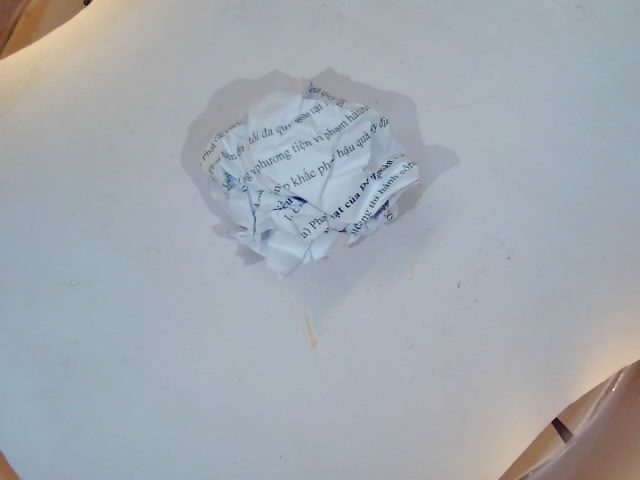paper: (190, 68, 441, 283)
